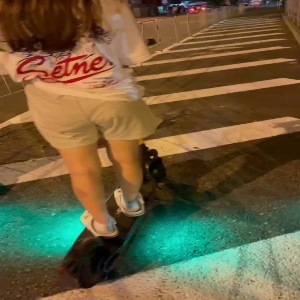human on a scooter: (1, 1, 169, 289)
